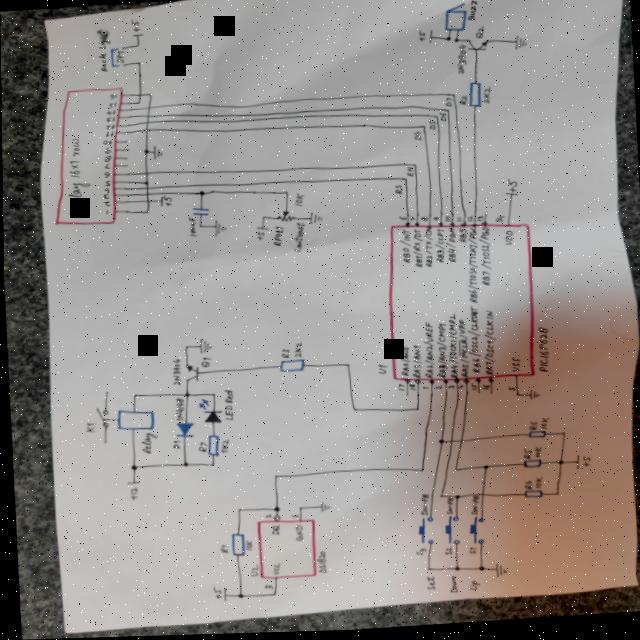capacitor: (189, 207, 209, 219)
crossover: (445, 441, 452, 447), (476, 495, 482, 500), (142, 172, 149, 176), (142, 122, 149, 126), (143, 115, 149, 119), (142, 187, 148, 191), (455, 441, 461, 445), (142, 129, 148, 133), (145, 107, 151, 111), (135, 94, 141, 98), (143, 200, 148, 204), (142, 193, 147, 197)
diode: (196, 398, 221, 427), (172, 422, 193, 439)
ground: (211, 220, 225, 238), (197, 338, 210, 355), (512, 38, 526, 53), (306, 213, 321, 226), (315, 503, 329, 515), (492, 566, 504, 580), (151, 146, 161, 160), (526, 392, 538, 403)
junction: (127, 464, 136, 472), (474, 567, 482, 575), (269, 507, 278, 514), (195, 191, 203, 198), (233, 595, 242, 601), (411, 408, 418, 415), (554, 463, 562, 469), (435, 441, 443, 447), (178, 462, 186, 468), (450, 568, 458, 574), (342, 364, 349, 370), (479, 467, 486, 473), (294, 506, 301, 512), (258, 216, 265, 222), (268, 593, 275, 599), (281, 191, 288, 197), (451, 496, 458, 502), (232, 509, 240, 514), (443, 39, 449, 45), (141, 149, 147, 155), (551, 494, 558, 499), (206, 463, 213, 468), (422, 569, 429, 574), (134, 61, 140, 66), (558, 434, 564, 439), (349, 409, 355, 414), (141, 181, 147, 186), (452, 40, 458, 45), (181, 393, 187, 398), (142, 211, 149, 215), (435, 496, 440, 501), (410, 165, 415, 170), (130, 394, 136, 398), (270, 476, 276, 480), (181, 346, 187, 350), (416, 471, 422, 475), (133, 44, 139, 48), (511, 396, 517, 400), (451, 470, 457, 474), (419, 128, 425, 132), (432, 118, 438, 122), (145, 94, 150, 98), (134, 101, 139, 105), (450, 96, 454, 100), (401, 180, 405, 184), (209, 394, 213, 398), (196, 226, 201, 229), (444, 112, 448, 115)
resistor: (227, 533, 244, 559), (466, 84, 481, 111), (276, 361, 304, 375), (203, 436, 218, 458), (519, 461, 539, 473), (275, 212, 292, 225), (519, 492, 539, 503), (524, 433, 544, 442)
switch: (440, 518, 458, 549), (414, 518, 431, 549), (465, 518, 482, 548), (109, 47, 126, 69)
terminal: (571, 458, 578, 474), (426, 32, 432, 46), (253, 227, 267, 233), (123, 481, 138, 486), (157, 197, 163, 209), (502, 195, 516, 199), (220, 589, 224, 603), (130, 34, 142, 38)
text: (62, 137, 91, 217), (462, 229, 478, 307), (479, 311, 497, 380), (463, 308, 480, 376), (444, 316, 457, 381), (476, 229, 490, 289), (432, 326, 447, 381), (454, 322, 468, 380), (419, 324, 433, 381), (94, 29, 111, 73), (533, 329, 548, 376), (397, 230, 410, 267), (289, 224, 305, 254), (410, 231, 422, 270), (219, 390, 233, 423), (137, 432, 156, 456), (421, 230, 432, 270), (443, 230, 455, 266), (453, 47, 467, 77), (432, 232, 444, 266), (409, 347, 420, 382), (169, 359, 181, 388), (397, 349, 408, 379), (269, 227, 284, 248), (465, 0, 478, 24), (171, 398, 183, 422), (313, 552, 324, 576), (499, 233, 514, 250), (416, 496, 427, 518), (466, 498, 477, 518), (185, 217, 195, 238), (289, 344, 302, 360), (441, 500, 452, 518), (291, 194, 304, 209), (290, 527, 302, 543), (421, 578, 433, 593), (445, 578, 455, 596), (480, 89, 490, 107), (505, 180, 516, 196), (197, 356, 209, 369), (456, 230, 465, 246), (578, 458, 589, 471), (508, 361, 518, 375), (473, 28, 483, 42), (209, 587, 219, 601), (126, 487, 136, 501), (129, 19, 139, 33), (464, 583, 478, 593), (217, 440, 227, 454), (278, 349, 289, 361), (216, 544, 227, 556), (267, 525, 278, 537), (114, 51, 124, 64), (246, 565, 256, 578), (82, 423, 95, 433), (375, 366, 386, 377), (268, 564, 278, 576), (537, 420, 547, 432), (531, 480, 541, 492), (520, 450, 529, 463), (456, 97, 466, 108), (195, 443, 205, 454), (169, 440, 179, 451), (412, 550, 424, 559), (161, 196, 170, 208), (531, 449, 540, 461), (411, 133, 421, 143), (391, 187, 401, 197), (525, 424, 535, 434), (521, 483, 531, 493), (404, 169, 413, 180), (492, 217, 503, 226), (416, 32, 424, 44), (426, 121, 434, 133), (242, 541, 250, 553), (254, 232, 263, 242), (104, 103, 116, 110), (443, 100, 451, 110), (437, 114, 445, 124), (465, 549, 475, 557), (103, 124, 114, 131), (441, 549, 449, 558), (406, 385, 414, 393), (395, 385, 403, 393), (102, 155, 110, 163), (260, 586, 270, 592), (101, 140, 111, 146), (103, 132, 113, 138), (104, 117, 114, 123), (104, 110, 114, 116), (108, 94, 116, 101), (432, 386, 440, 393), (474, 218, 482, 225), (102, 147, 109, 155), (464, 218, 471, 225), (102, 172, 109, 179), (505, 388, 513, 394), (479, 387, 487, 393), (468, 385, 474, 393), (101, 201, 109, 207), (100, 194, 108, 200), (101, 181, 109, 187), (408, 218, 414, 225), (442, 218, 449, 224), (262, 514, 269, 520), (102, 164, 109, 170), (455, 387, 463, 392), (445, 387, 453, 392), (397, 218, 405, 223), (418, 219, 426, 224), (430, 219, 438, 224), (453, 220, 461, 225), (288, 515, 296, 520), (102, 210, 108, 216), (102, 188, 108, 194), (419, 388, 427, 392)
transistor: (181, 363, 198, 384), (466, 41, 488, 55)
